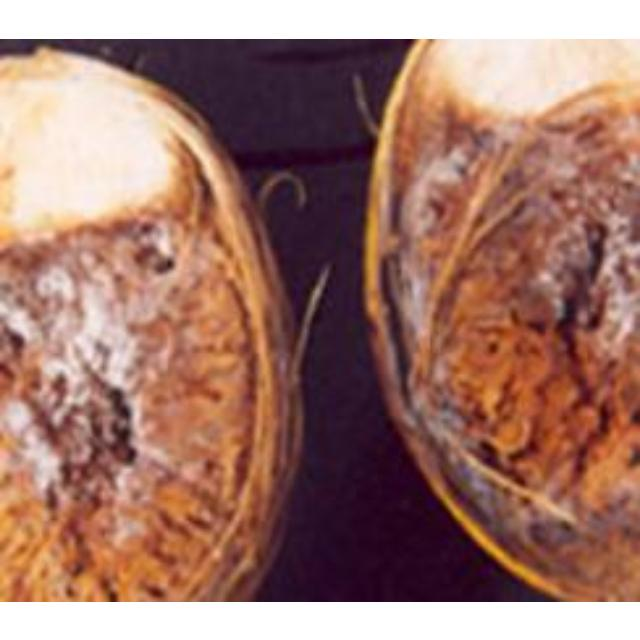damaged: (0, 46, 304, 599), (362, 38, 637, 599)
